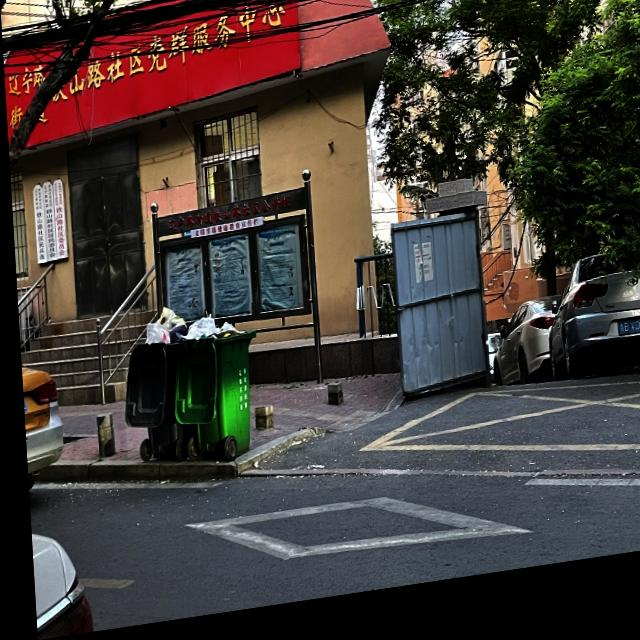overflow: (165, 310, 256, 468), (115, 306, 191, 467)
